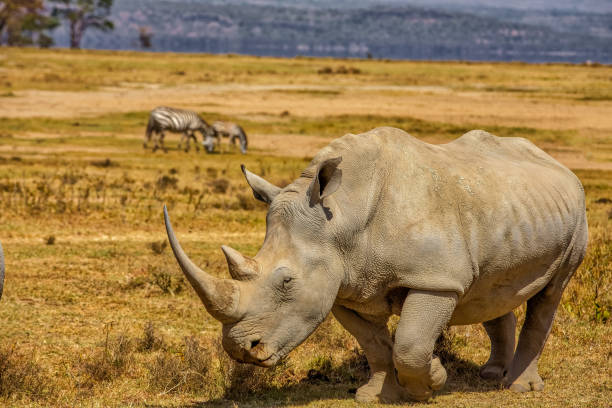rhino: (154, 157, 359, 381)
